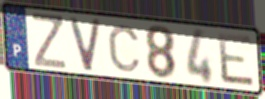4: (184, 26, 215, 86)
8: (143, 23, 179, 81)
C: (106, 23, 143, 74)
E: (216, 31, 257, 89)
V: (67, 16, 103, 74)
Z: (30, 11, 68, 71)
